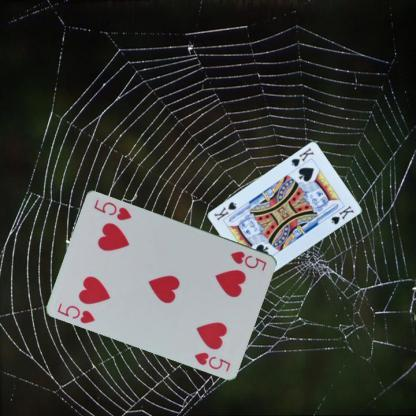5h: (54, 300, 96, 325), (228, 249, 268, 272)
Ks: (288, 145, 315, 168)
